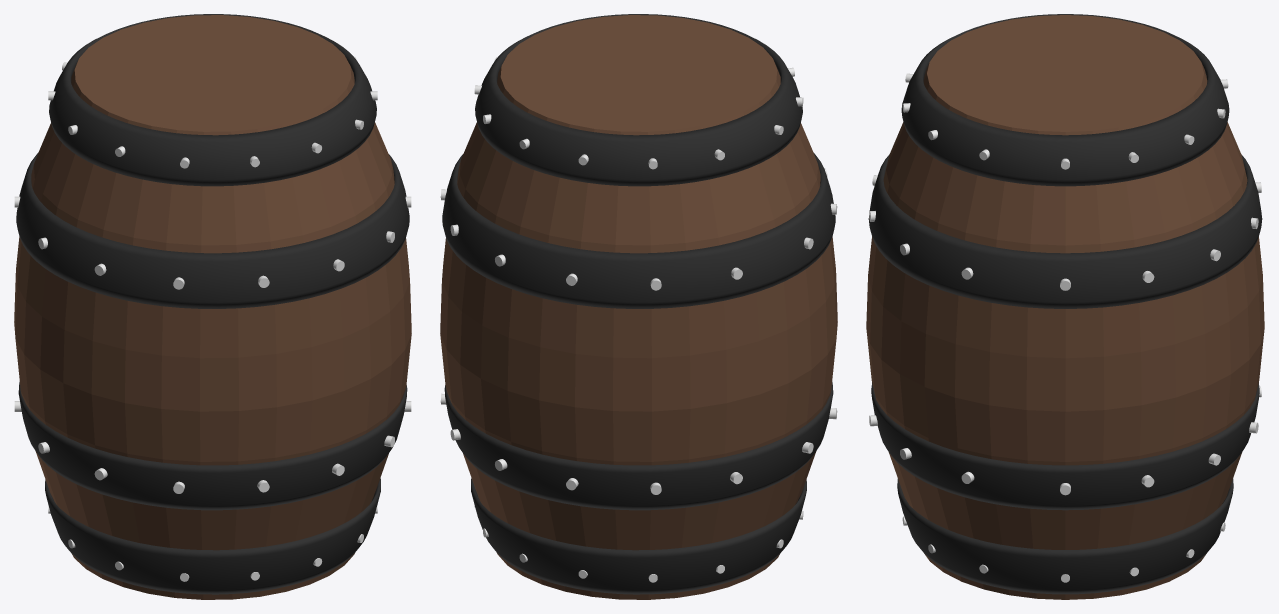
The model's file is Tonneau.fbx.
3 views of the same model, side by side, from view 1: azimuth 30°, elevation 25°; view 2: azimuth 150°, elevation 25°; view 3: azimuth 270°, elevation 25° (orthographic).
Parts seen in each view (by area): view 1: Tonneau, Boucle3, Boucle1, Boucle4, Boucle2, Clous; view 2: Tonneau, Boucle3, Boucle1, Boucle4, Boucle2, Clous; view 3: Tonneau, Boucle3, Boucle1, Boucle4, Boucle2, Clous.
Boxes of the visible parts, x1=… form: Tonneau: x1=14, y1=15, x2=411, y2=599; Boucle3: x1=16, y1=152, x2=409, y2=308; Boucle1: x1=49, y1=14, x2=376, y2=186; Boucle4: x1=18, y1=382, x2=407, y2=510; Boucle2: x1=45, y1=478, x2=380, y2=594; Clous: x1=14, y1=57, x2=411, y2=581; Tonneau: x1=440, y1=15, x2=837, y2=599; Boucle3: x1=442, y1=152, x2=835, y2=308; Boucle1: x1=475, y1=14, x2=802, y2=186; Boucle4: x1=444, y1=382, x2=833, y2=510; Boucle2: x1=471, y1=478, x2=806, y2=594; Clous: x1=440, y1=57, x2=837, y2=582; Tonneau: x1=866, y1=15, x2=1264, y2=599; Boucle3: x1=868, y1=154, x2=1262, y2=308; Boucle1: x1=901, y1=14, x2=1229, y2=186; Boucle4: x1=871, y1=382, x2=1259, y2=510; Boucle2: x1=897, y1=478, x2=1233, y2=594; Clous: x1=869, y1=73, x2=1261, y2=582.
Bounding box in the file's own units: 376 × 483 × 376.
